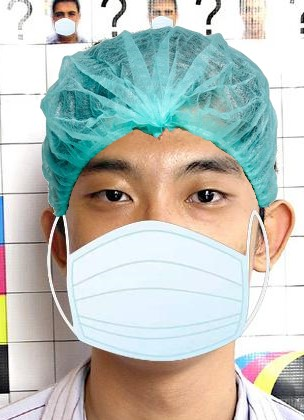with_mask_and_cap: (45, 46, 277, 361)
